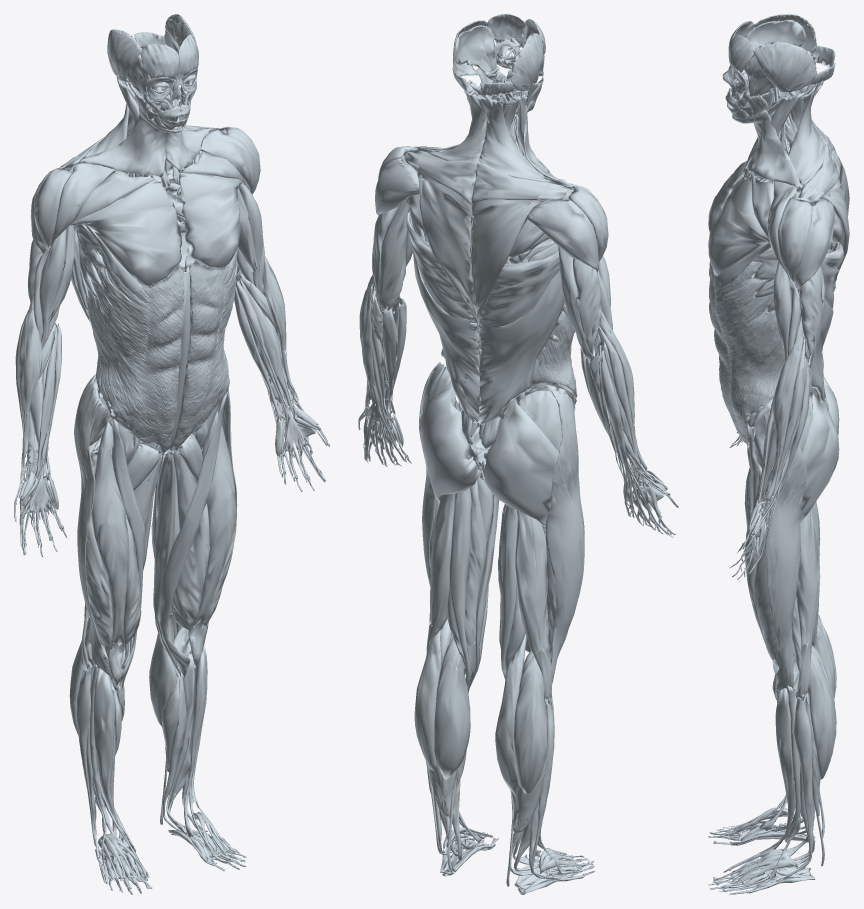
The model's file is muscles.glb.
3 renders of one model, left to right at view 1: azimuth 30°, elevation 25°; view 2: azimuth 150°, elevation 25°; view 3: azimuth 270°, elevation 25°, orthographic.
Visible parts, largest first — view 1: muscles:reste, cuisse, mollet; view 2: muscles:reste, cuisse, mollet, paravertebraux; view 3: muscles:reste, cuisse, mollet.
Part boxes in pixels (x1,y1,x2,y2): muscles:reste: (14,14,329,894); cuisse: (81,392,236,692); mollet: (69,614,195,771); muscles:reste: (358,14,678,894); cuisse: (426,400,575,699); mollet: (414,629,547,833); paravertebraux: (461,84,509,449); muscles:reste: (708,14,849,894); cuisse: (744,423,820,700); mollet: (798,614,836,816).
Bounding box in the file's own units: 0.6601 × 1.67 × 0.2584.
